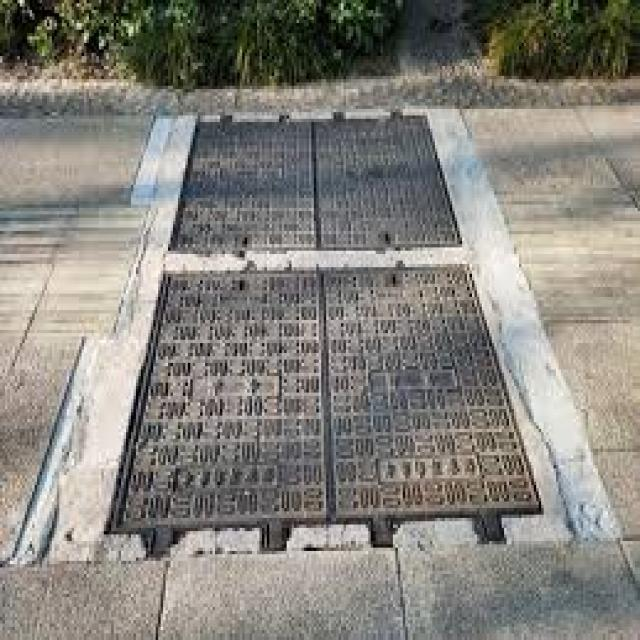manhole: (112, 116, 538, 549), (171, 116, 459, 253), (315, 118, 459, 249)
